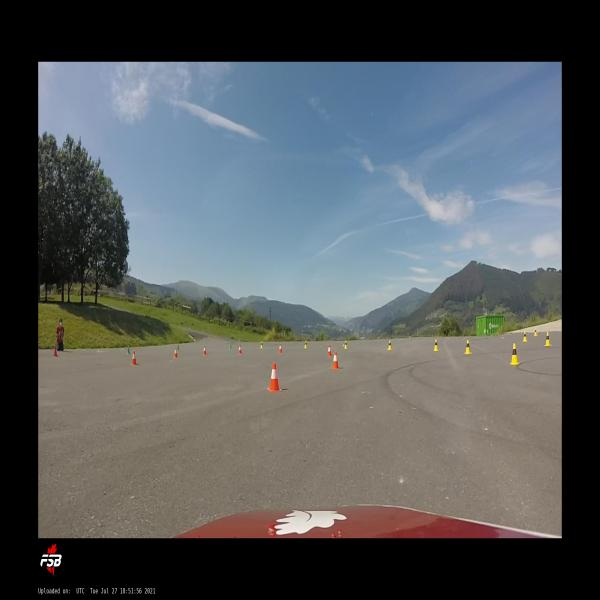orange_cone: (267, 362, 282, 392), (332, 350, 340, 370), (131, 350, 137, 365), (328, 344, 332, 357), (54, 346, 58, 357), (174, 347, 178, 358), (279, 343, 283, 353), (239, 344, 242, 354), (203, 346, 206, 355)
yellow_cone: (510, 344, 520, 366), (544, 332, 552, 347), (464, 340, 472, 354), (434, 339, 440, 351), (522, 332, 528, 342), (388, 340, 393, 350), (344, 340, 348, 349), (304, 340, 308, 349), (534, 328, 538, 337), (261, 341, 263, 348)
